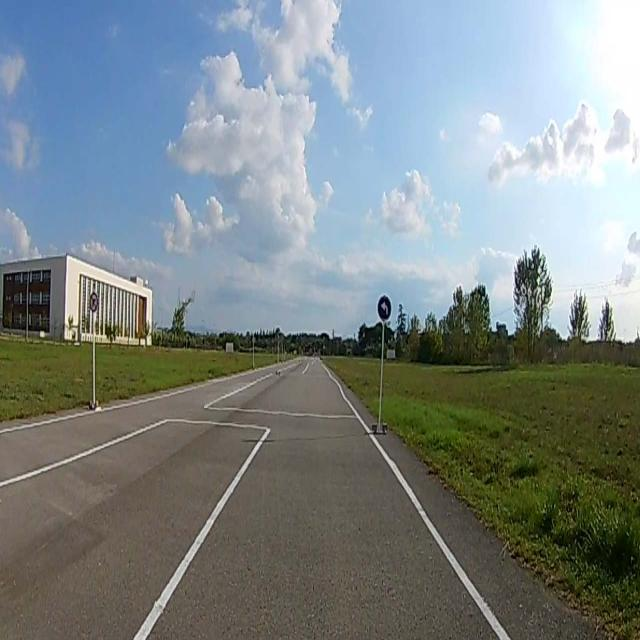sagadonulmez: (89, 293, 98, 311)
sol: (378, 296, 392, 322)
